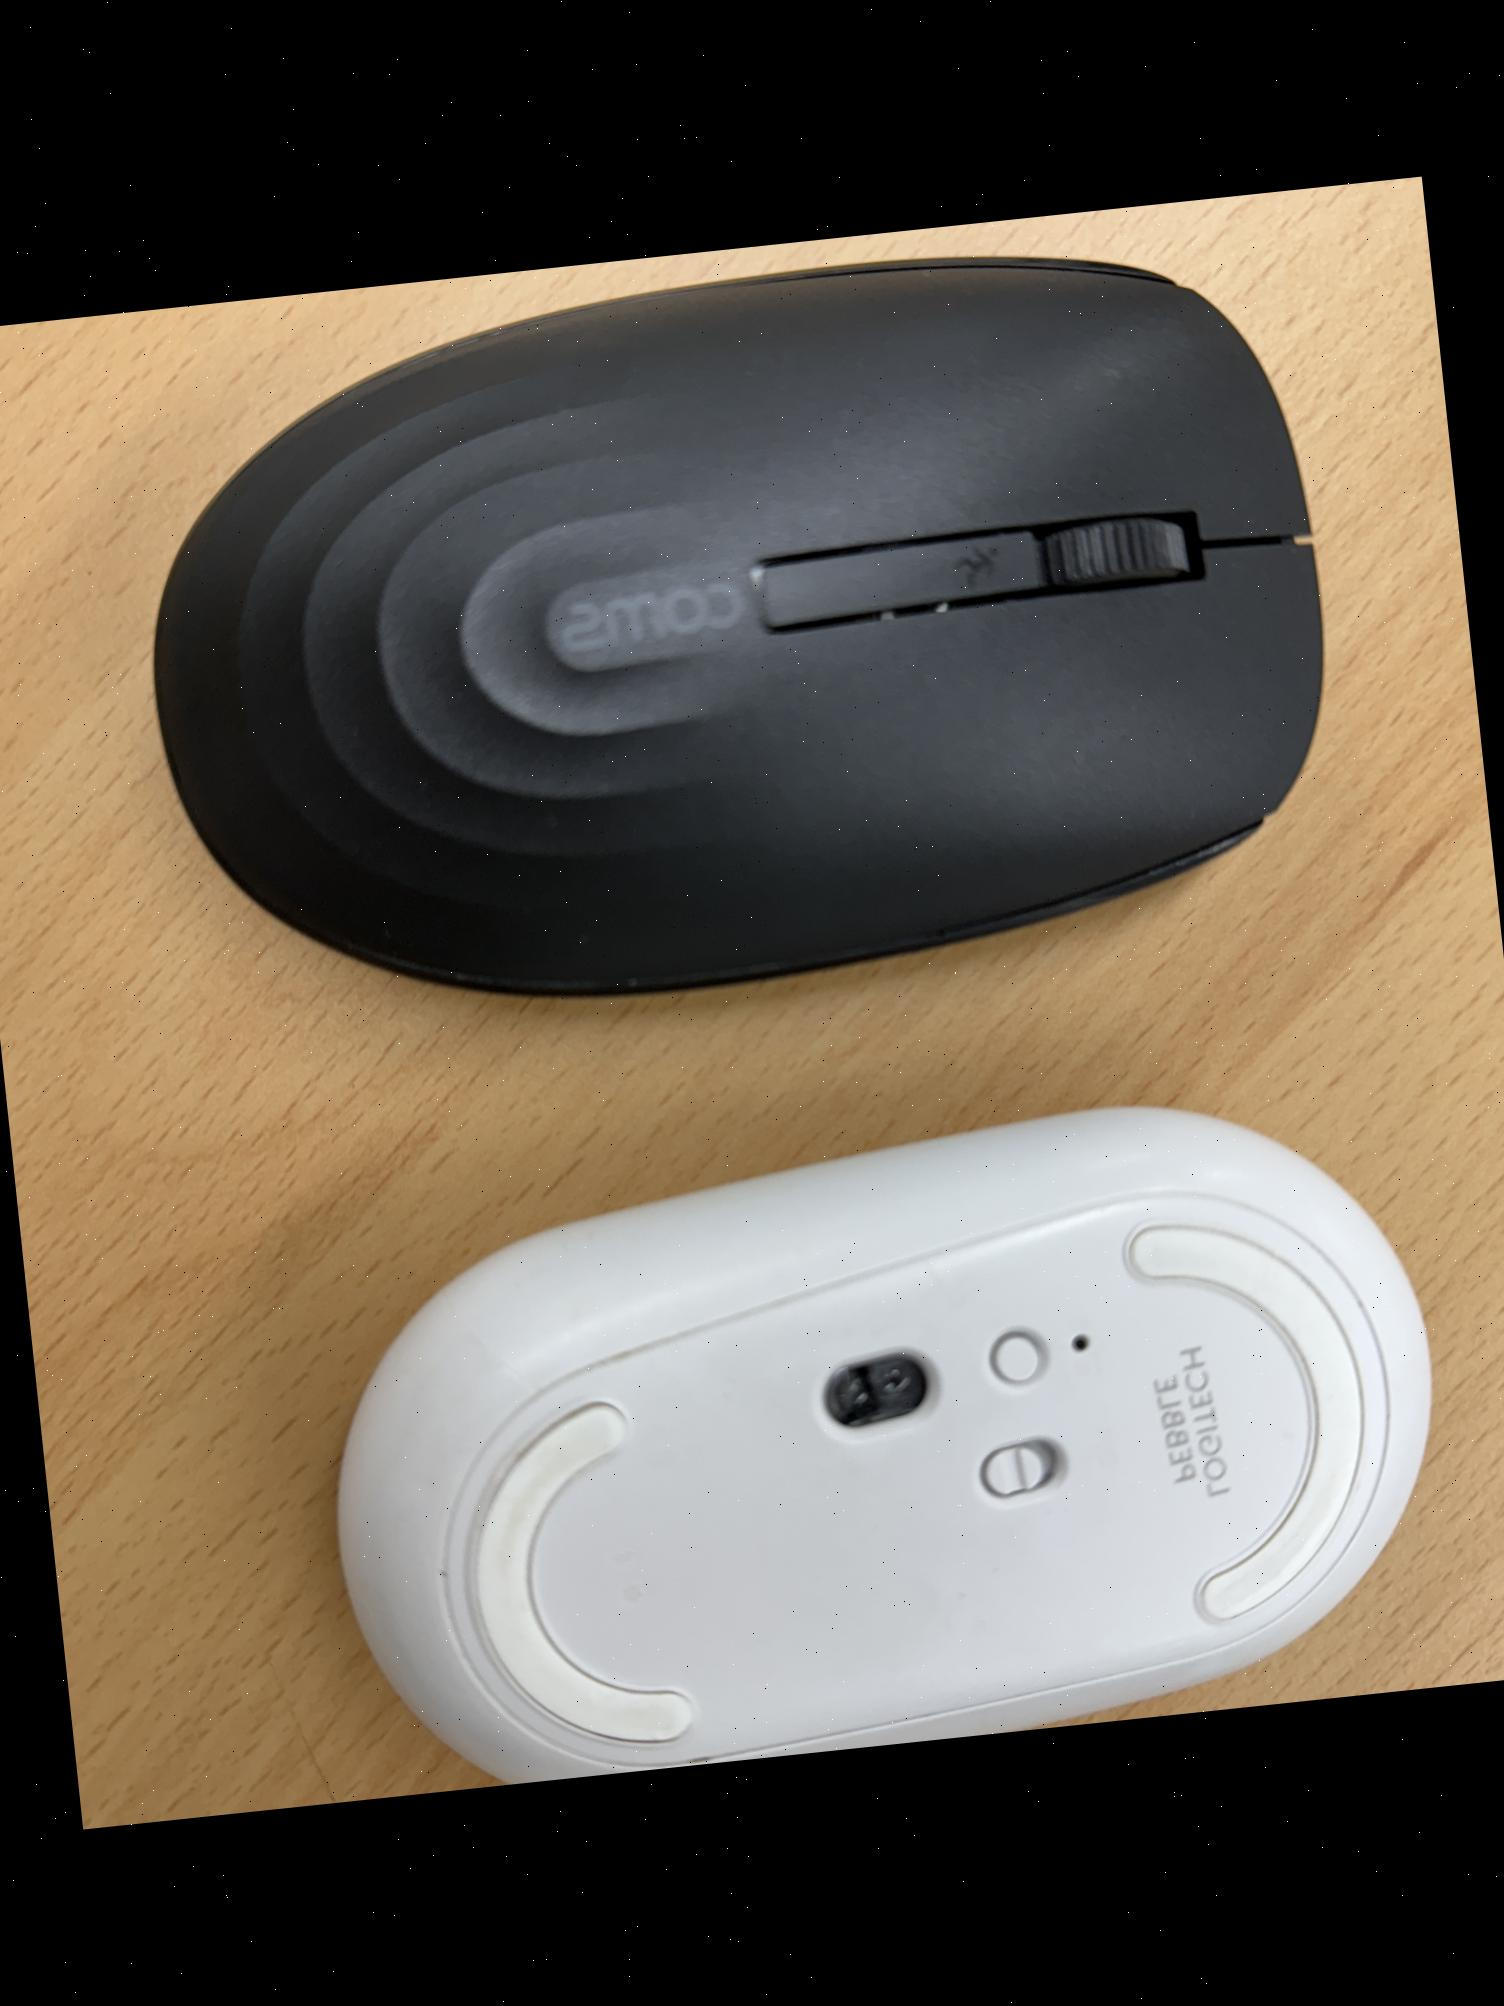back: (292, 1072, 1472, 1801)
front: (111, 227, 1363, 1050)
